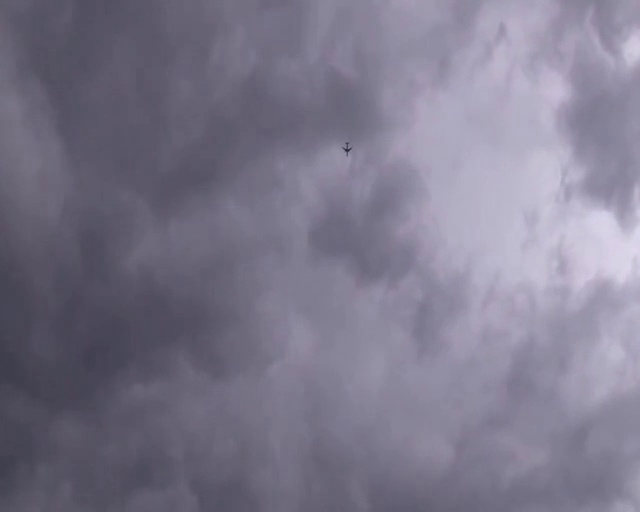AIRPLANE: (341, 141, 352, 155)
